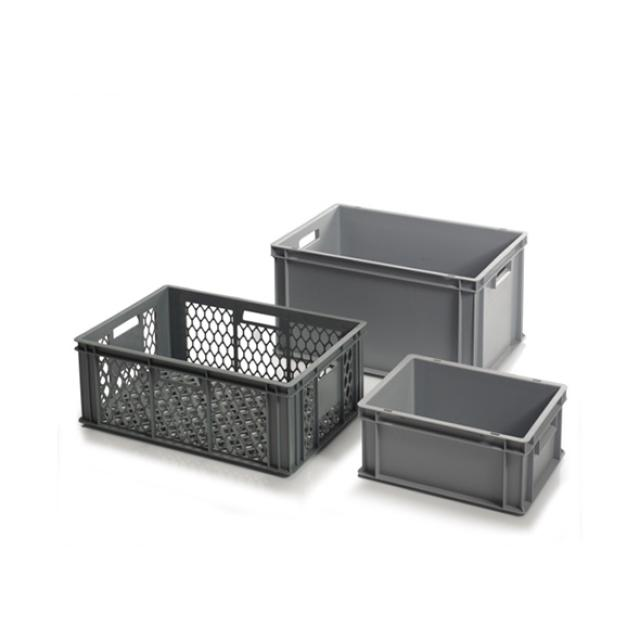basket: (58, 272, 376, 487), (256, 197, 539, 394), (346, 349, 577, 522)
